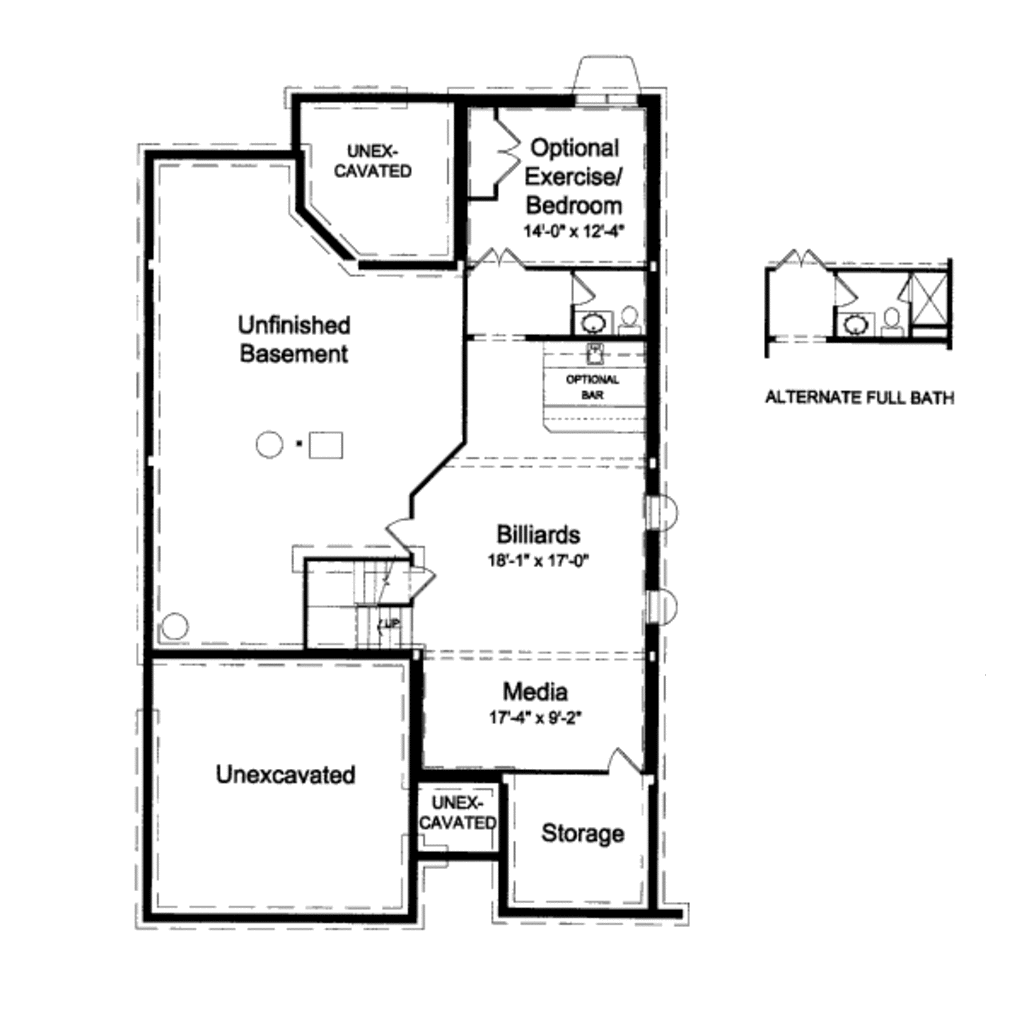door: (488, 121, 528, 197), (469, 241, 536, 277), (570, 263, 613, 313), (595, 744, 645, 782), (828, 269, 872, 307), (781, 241, 827, 276), (403, 565, 444, 601)
large_sink: (875, 305, 905, 346), (617, 301, 644, 346)
small_sink: (572, 308, 616, 338), (839, 313, 870, 337)
stairs: (300, 546, 408, 657)
